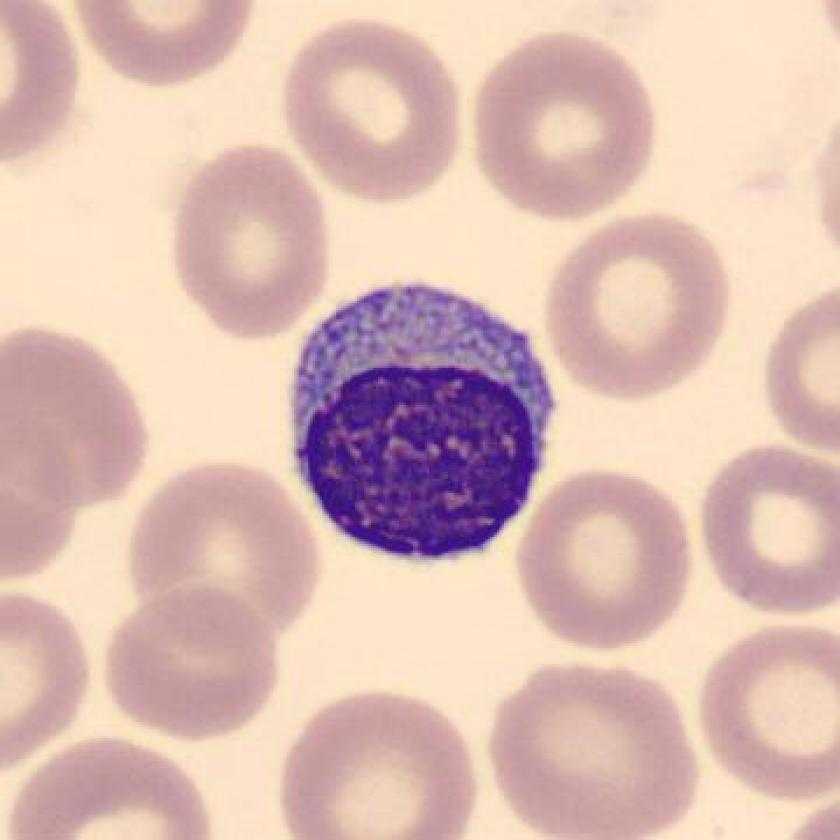lymphocyte: (267, 270, 577, 578)
